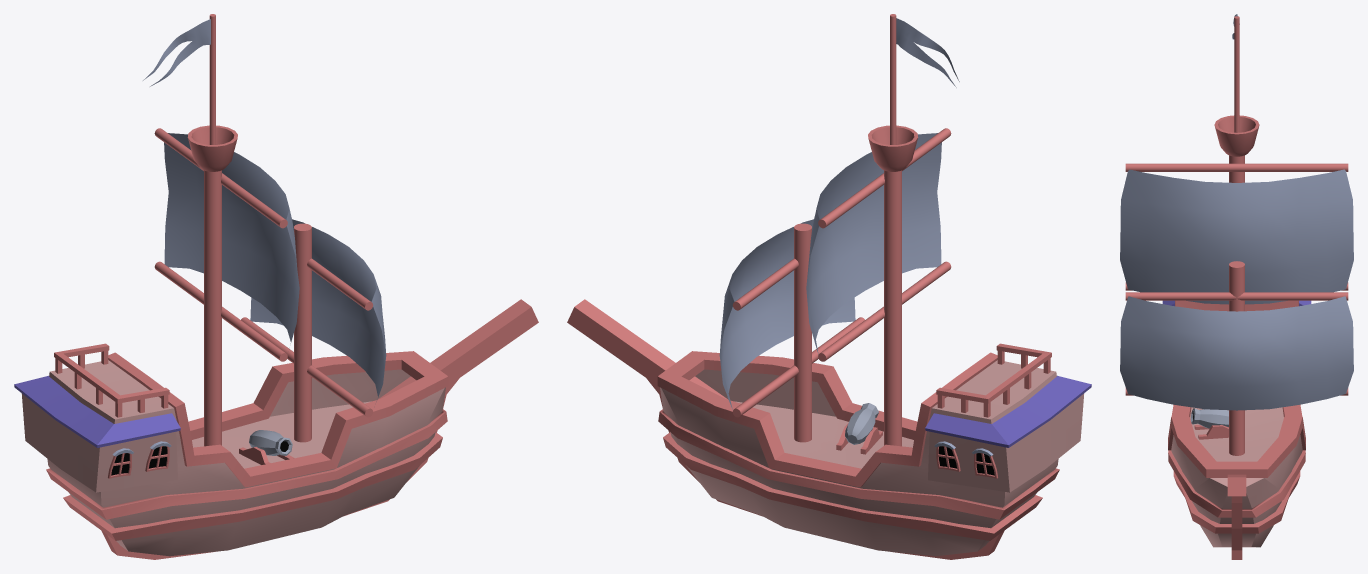
Rendered from ship.glb.
3 renders of one model, left to right at view 1: azimuth 30°, elevation 25°; view 2: azimuth 150°, elevation 25°; view 3: azimuth 270°, elevation 25°, orthographic. The views are drawn at different scales.
Visible parts, largest first — view 1: Cube.012; view 2: Cube.012; view 3: Cube.012.
Part boxes in pixels (x1=…): Cube.012: x1=14, y1=14, x2=538, y2=559; Cube.012: x1=567, y1=14, x2=1091, y2=559; Cube.012: x1=1120, y1=14, x2=1353, y2=559.
Size of the model in its own units: 14.91 by 15.94 by 7.1.
Materials: 1 (1 with a texture image).
